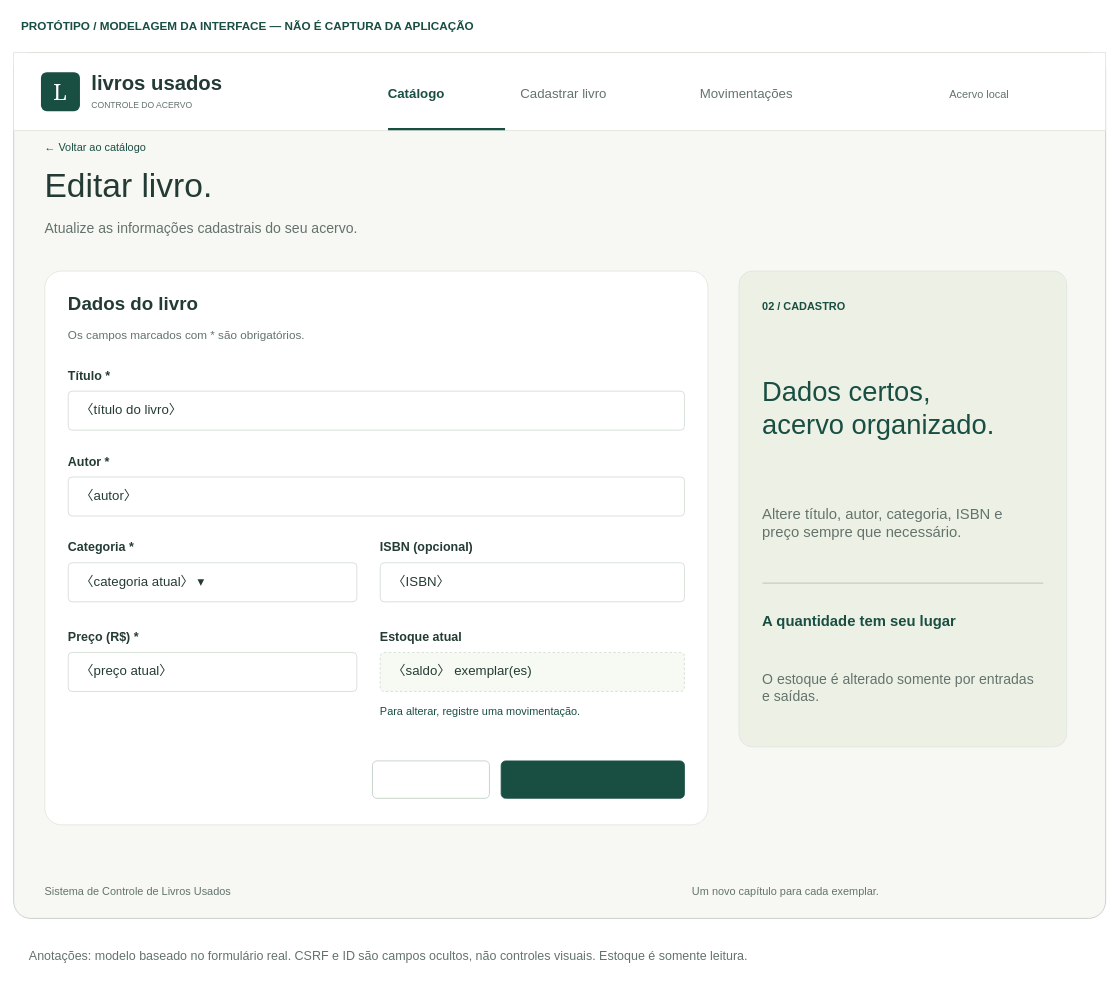
The diagram is 1119 pixels wide and 990 high, and some of its shapes have lost their labels. Here are the shapes that lost their labels. From the top down, the centre of each, then its label:
At point 430,779: "Cancelar".
At point 592,779: "Salvar alterações".
